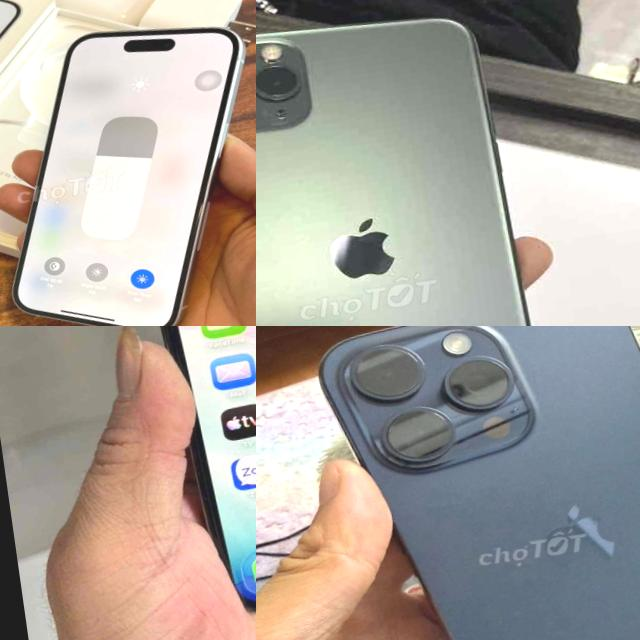gen_11: (256, 19, 530, 326)
gen_12_13: (0, 0, 256, 326), (116, 326, 256, 630)
gen_15: (302, 326, 640, 640)
